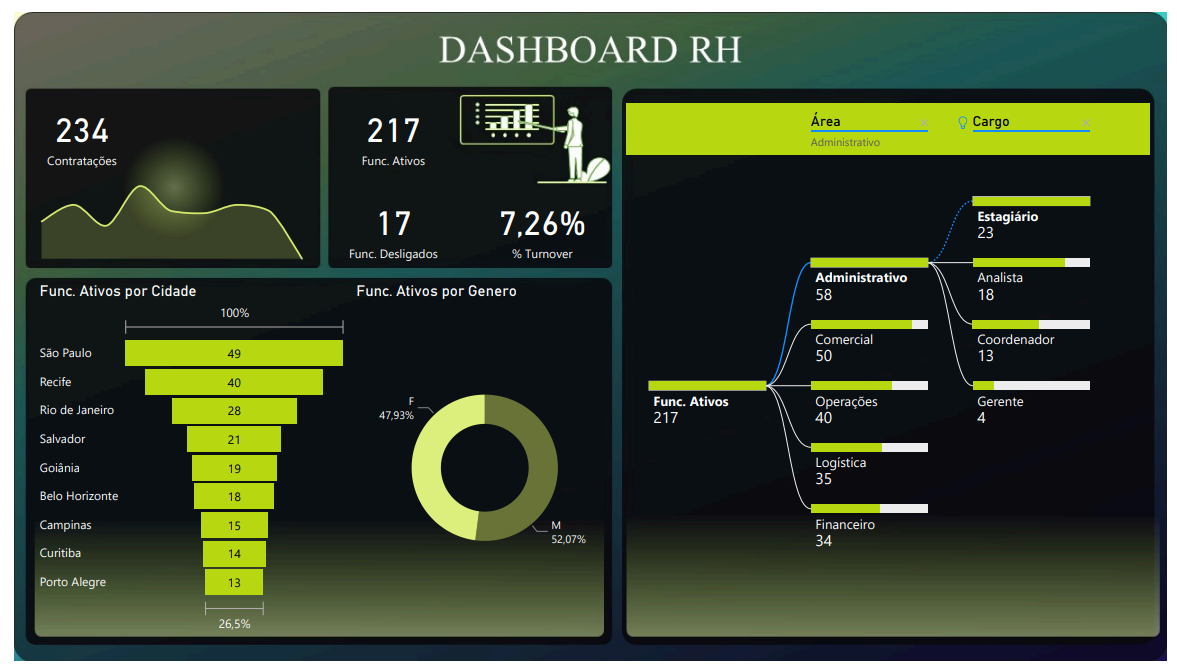

Layout of this report page (visuals, bound fields, positions):
{"tool":"powerbi","page":{"name":"Dash RH","canvas":[1280,720],"ordinal":0},"visuals":[{"type":"card","fields":{"Values":["Base Funcionarios.Contratações"]},"box":[22.9,95.3,103.8,82],"z":0},{"type":"PBI_CV_25997FEB_F466_44FA_B562_AC4063283C4C","fields":{"axis":["Base Funcionarios.Data de Contratacao.Variation.Hierarquia de datas.Ano"],"measure":["Base Funcionarios.Contratações"]},"box":[12.1,176.1,329.4,108.6],"z":1000},{"type":"card","fields":{"Values":["Base Funcionarios.Func. Ativos"]},"box":[364.3,95.3,113.4,80.8],"z":2000},{"type":"card","fields":{"Values":["Base Funcionarios.Func. Desligados"]},"box":[364.3,193,113.4,91.7],"z":3000},{"type":"card","fields":{"Values":["Base Funcionarios.% Turnover"]},"box":[529.6,193,113.4,91.7],"z":4000},{"type":"funnel","fields":{"Y":["Base Funcionarios.Func. Ativos"],"Category":["Base Funcionarios.Cidade"]},"box":[22.9,299.2,352.3,394.5],"z":5000},{"type":"donutChart","fields":{"Y":["Base Funcionarios.Func. Ativos"],"Category":["Base Funcionarios.Genero"]},"box":[375.2,299.2,294.4,394.5],"z":6000},{"type":"decompositionTreeVisual","fields":{"Analyze":["Base Funcionarios.Func. Ativos"],"ExplainBy":["Base Funcionarios.Área","Base Funcionarios.Cargo"]},"box":[676.2,95,591.2,625],"z":7000}]}

Visuals, with their boxes in screenshot pixels (x1, y1, x2, y2), scaled from the page's 1280x720 canvas onto the 1177x671 screenshot:
card - Base Funcionarios.Contratações: 21,89,117,165
PBI_CV_25997FEB_F466_44FA_B562_AC4063283C4C - Base Funcionarios.Data de Contratacao.Variation.Hierarquia de datas.Ano x Base Funcionarios.Contratações: 11,164,314,265
card - Base Funcionarios.Func. Ativos: 335,89,439,164
card - Base Funcionarios.Func. Desligados: 335,180,439,265
card - Base Funcionarios.% Turnover: 487,180,591,265
funnel - Base Funcionarios.Func. Ativos x Base Funcionarios.Cidade: 21,279,345,646
donutChart - Base Funcionarios.Func. Ativos x Base Funcionarios.Genero: 345,279,616,646
decompositionTreeVisual - Base Funcionarios.Func. Ativos x Base Funcionarios.Área: 622,89,1165,670
